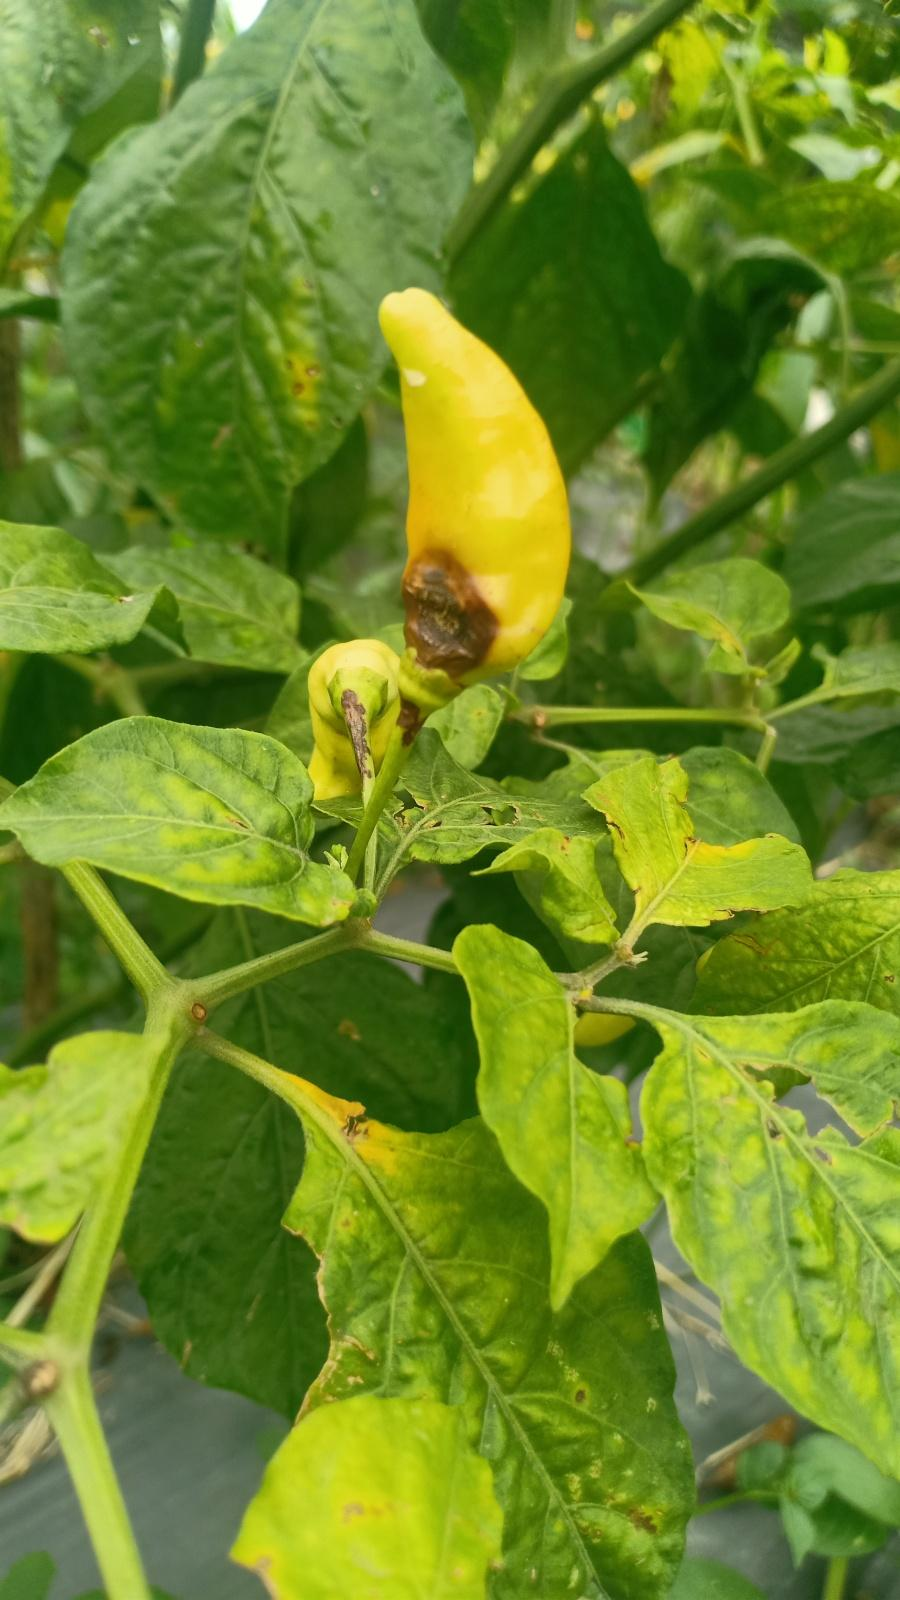antraknosa: (378, 289, 569, 678)
cabai_normal: (301, 638, 402, 797)
